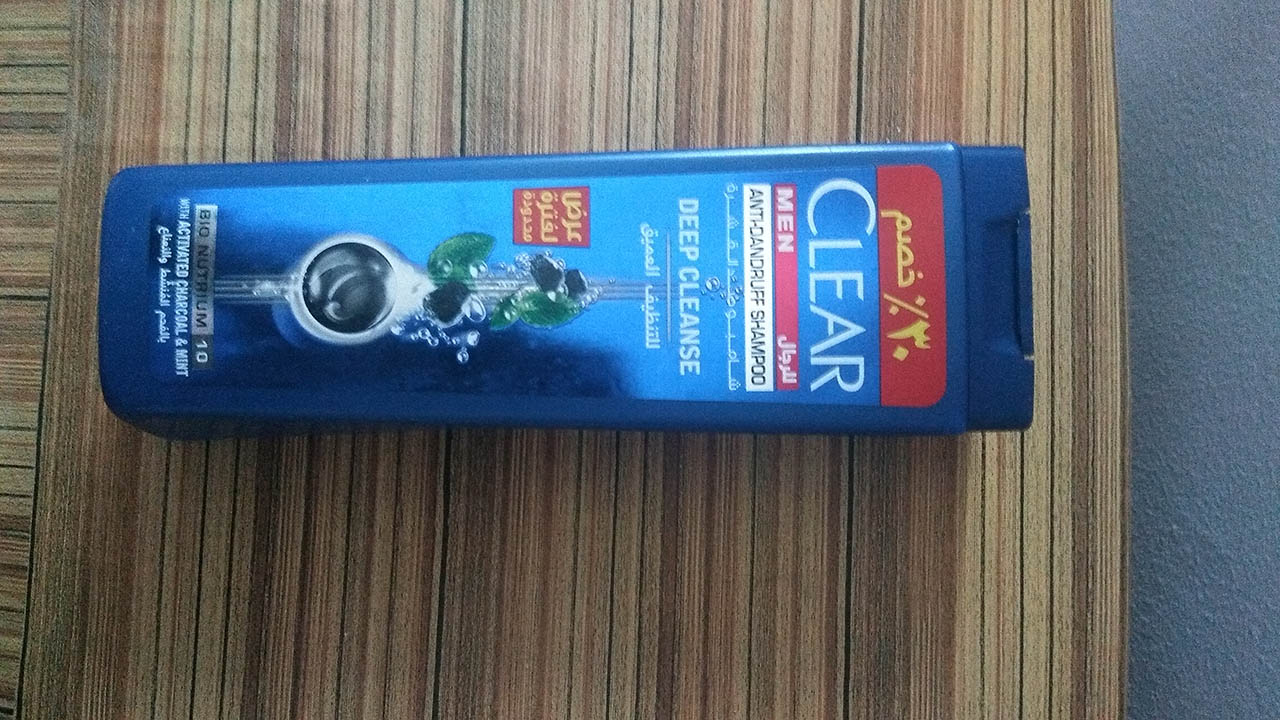Shampoo-Clear 4.7$: (102, 151, 1047, 435)
